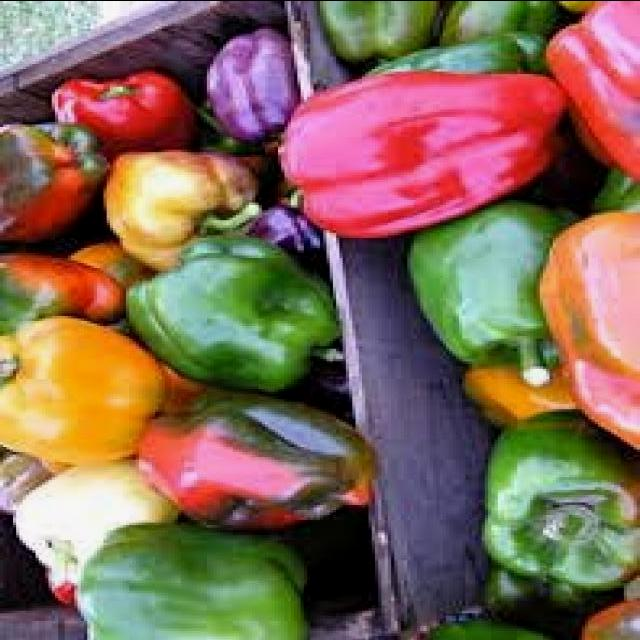bell_pepper: (131, 391, 393, 535), (393, 200, 594, 384), (126, 231, 359, 389)
